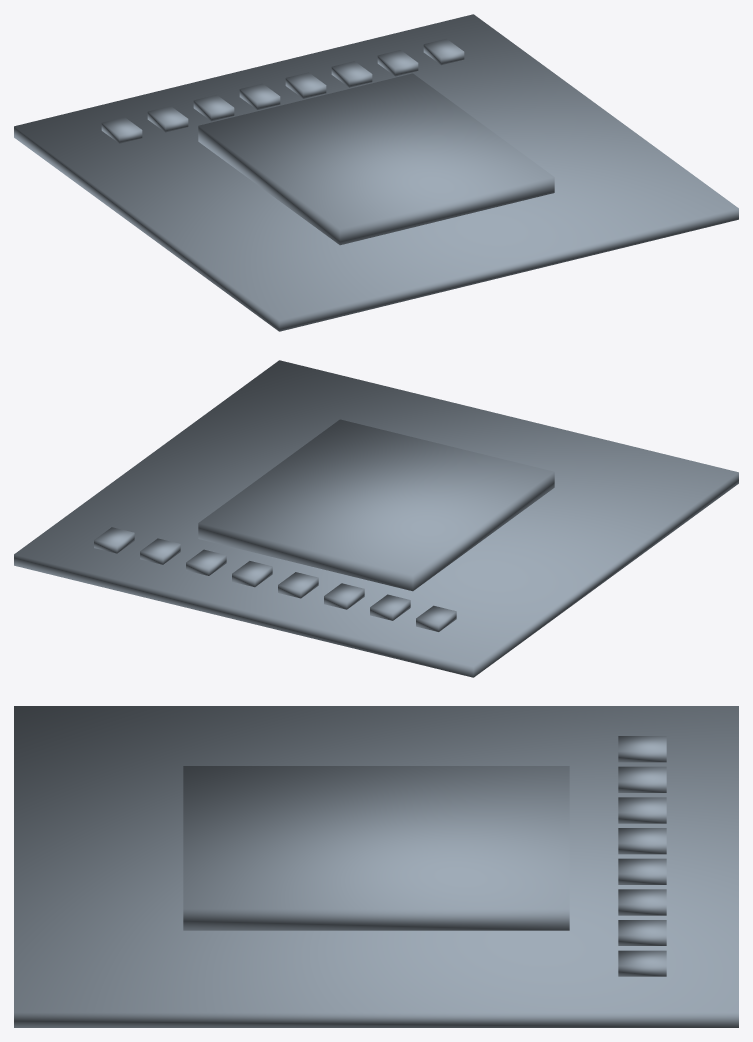
Rendered from cpu.obj.
3 renders of one model, top to bottom at view 1: azimuth 30°, elevation 25°; view 2: azimuth 150°, elevation 25°; view 3: azimuth 270°, elevation 25°, orthographic. The views are drawn at different scales.
Visible parts, largest first — view 1: cpu; view 2: cpu; view 3: cpu.
Boxes of the visible parts, <box> form: cpu: <box>14,14,738,331</box>; cpu: <box>14,360,738,677</box>; cpu: <box>14,706,738,1027</box>.
Size of the model in its own units: 30 by 1.7 by 30.
